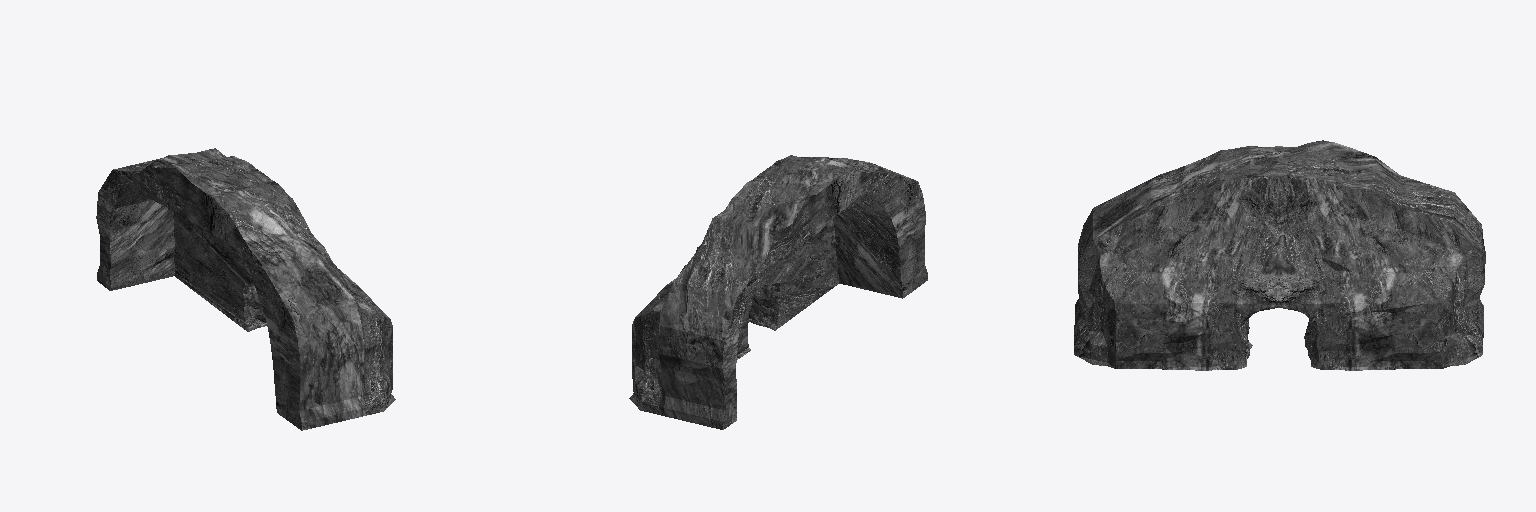
3 renders of one model, left to right at view 1: azimuth 30°, elevation 25°; view 2: azimuth 150°, elevation 25°; view 3: azimuth 270°, elevation 25°, orthographic.
Visible parts, largest first — view 1: entrance; view 2: entrance; view 3: entrance.
Part boxes in pixels (bbox=[...]): entrance: bbox=[96, 148, 395, 430]; entrance: bbox=[629, 155, 927, 429]; entrance: bbox=[1074, 140, 1485, 370].
Bounding box in the file's own units: 2379 × 3132 × 6729.
1 materials, 1 textured.